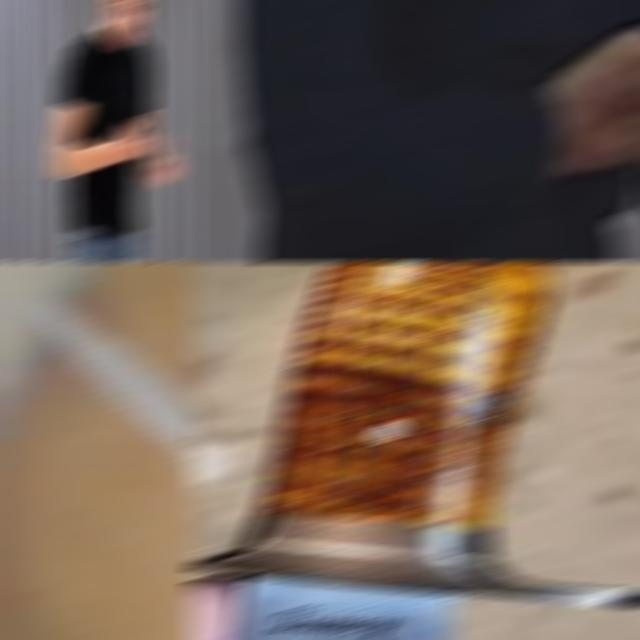Knife_Handle: (27, 297, 197, 639), (566, 1, 640, 169), (98, 95, 148, 162)
